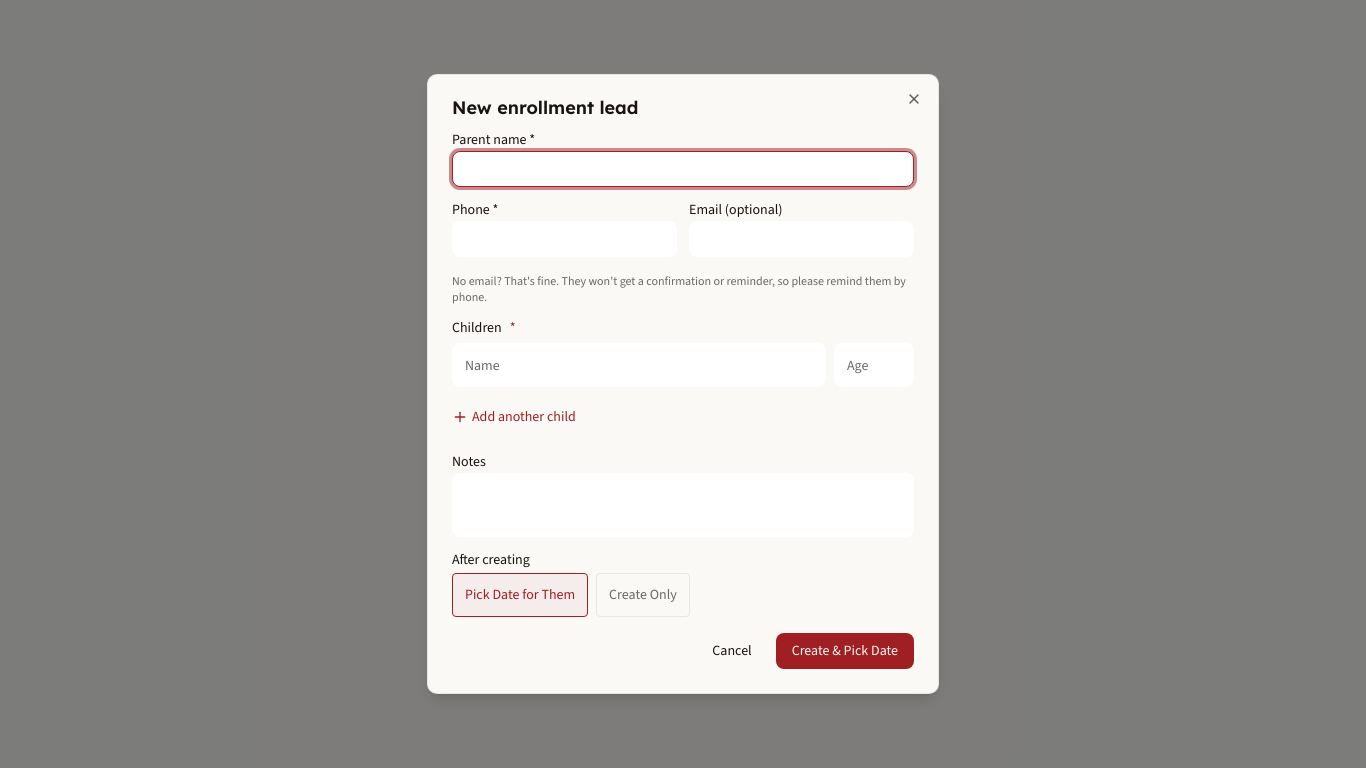
Scenario: NewLeadModal submission › blocks submission with neither phone nor email and explains why
In the field labelled "Parent name *": (683, 169) [452,151,914,187], type "Maria Lopez"
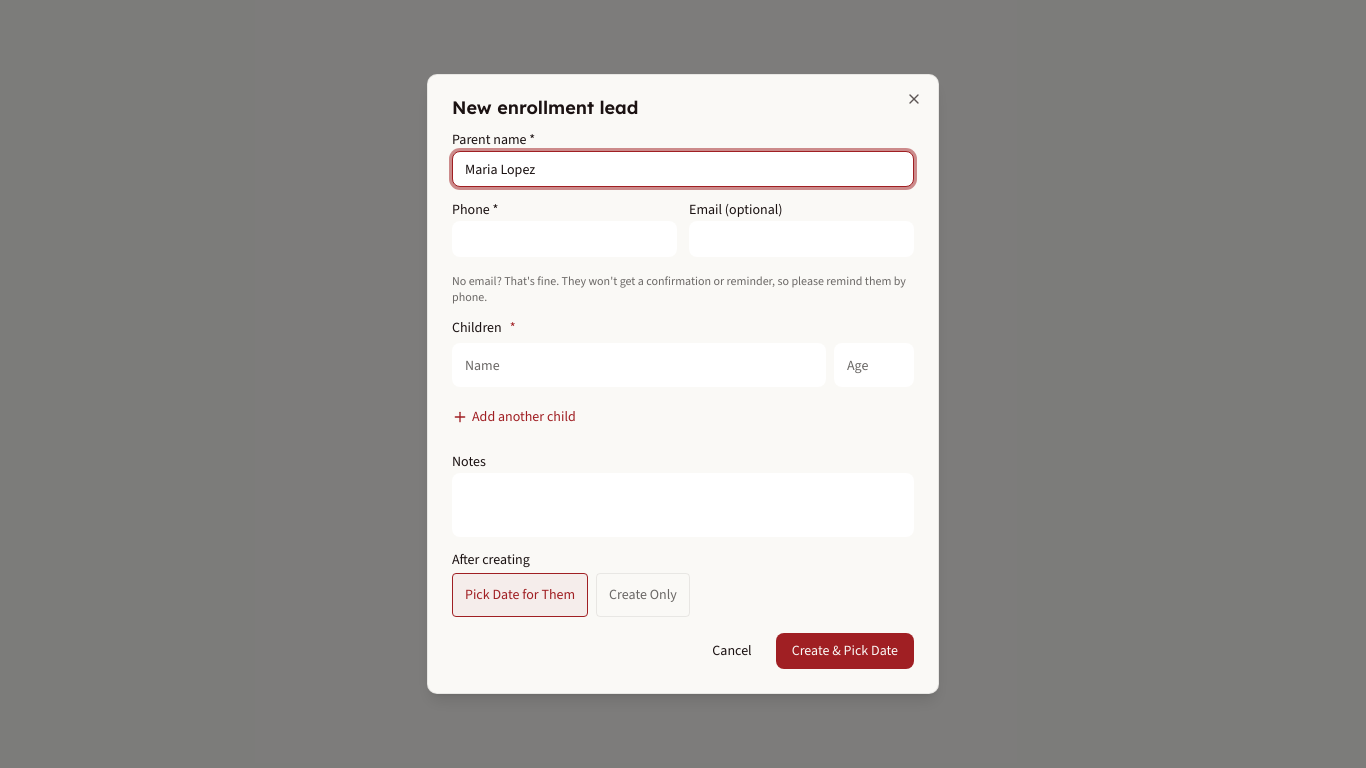
In the field named "Child 1 name": (639, 365) [452,343,826,387], type "Mia"
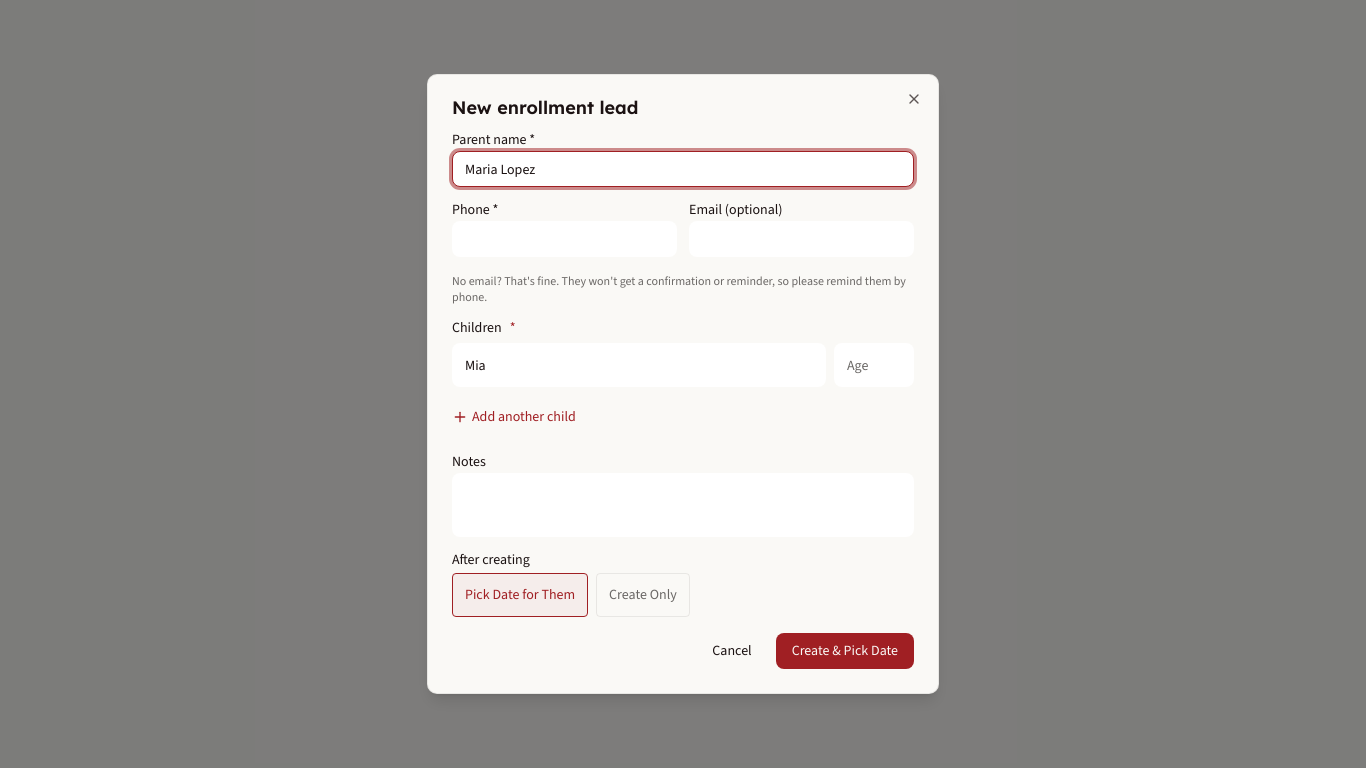
In the number field named "Child 1 age": (874, 365) [834,343,914,387], type "6"
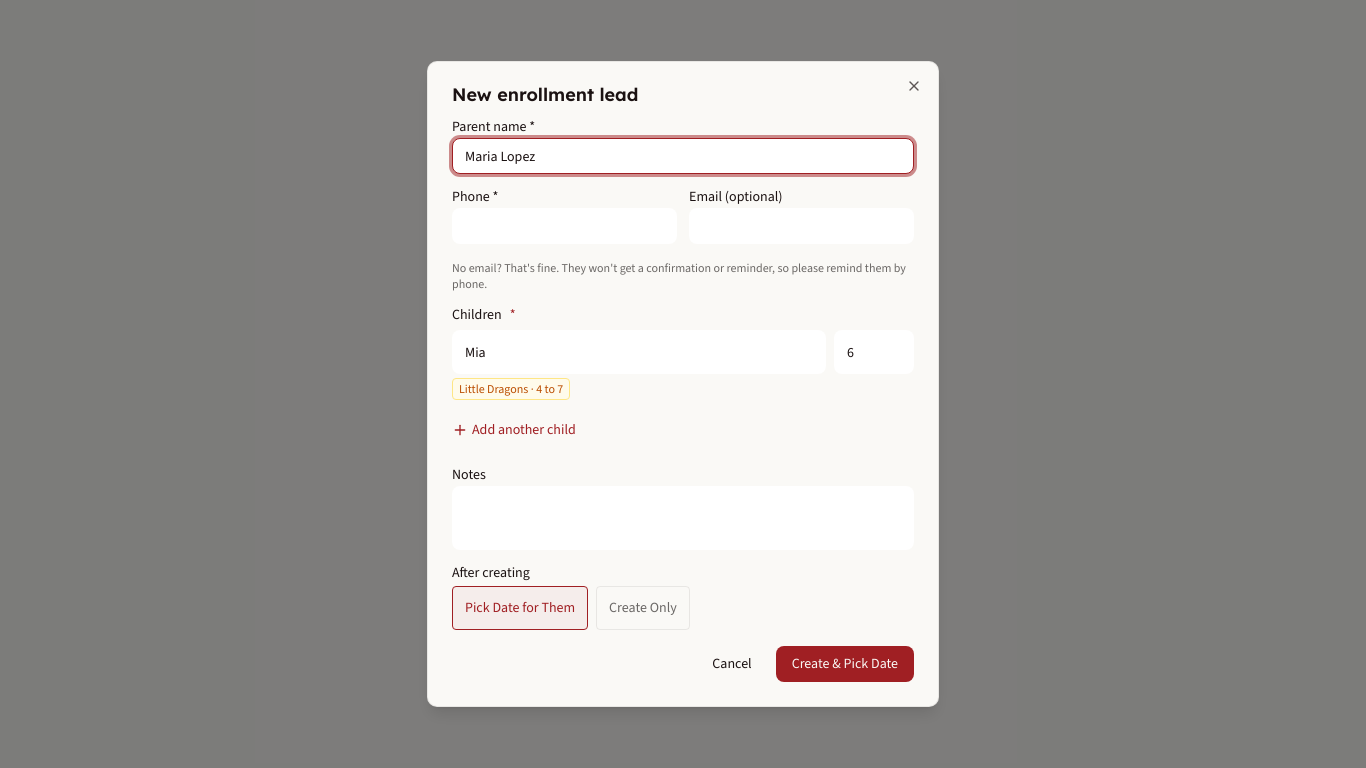
Click the button "Create & Pick Date": (845, 664) [776,646,914,682]
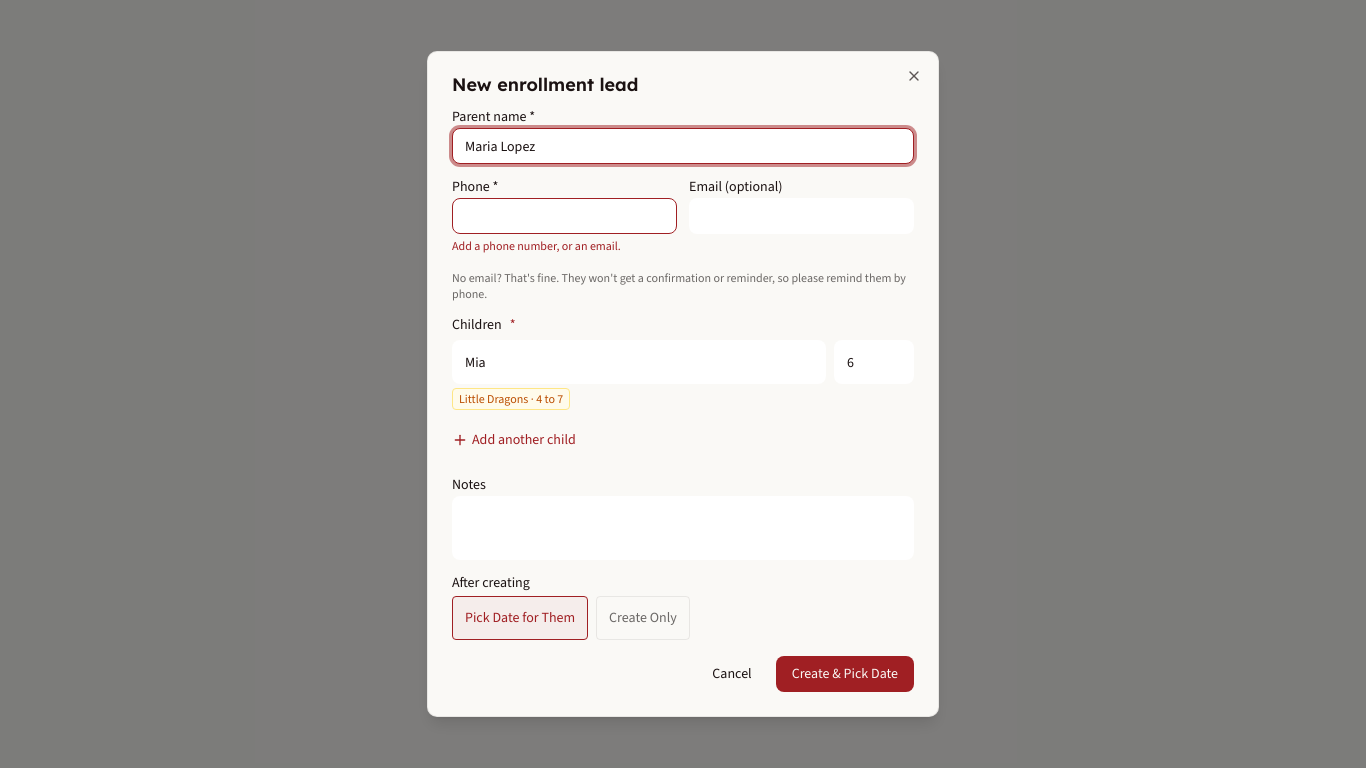
Check: the text "Add a phone number, or an email." is shown, box [452,238,621,254]
